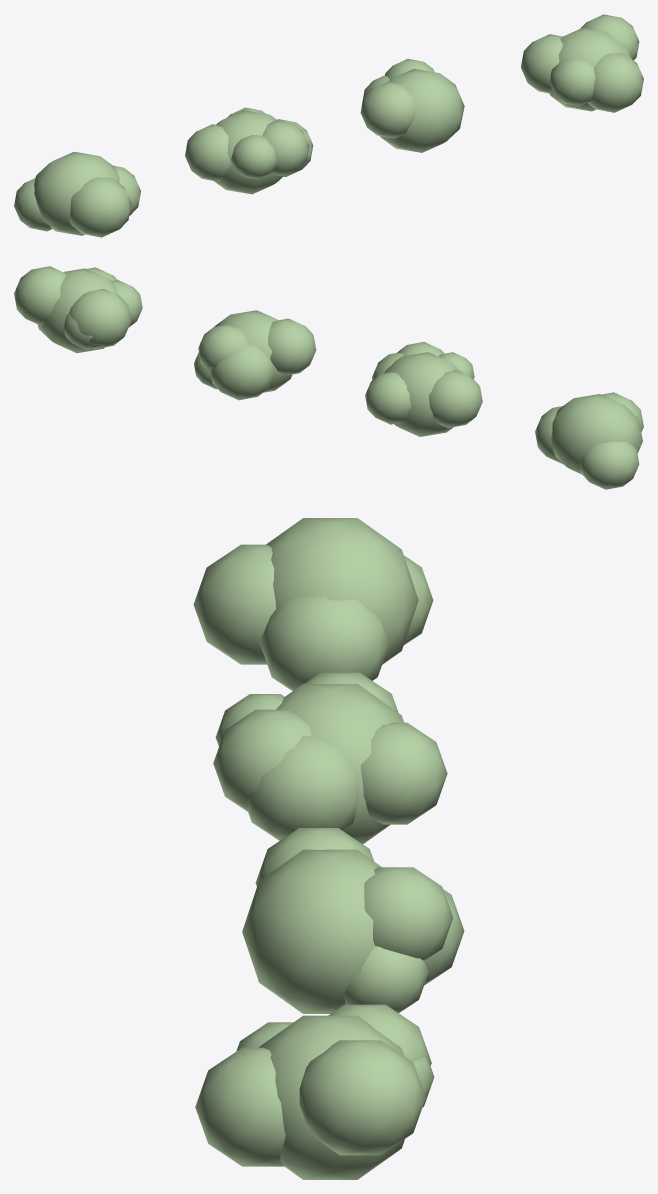
File: shrub_02.glb
3 renders of one model, top to bottom at view 1: azimuth 30°, elevation 25°; view 2: azimuth 150°, elevation 25°; view 3: azimuth 270°, elevation 25°, orthographic. The views are drawn at different scales.
Parts seen in each view (by area): view 1: shrub_02_d, shrub_02_a, shrub_02_b, shrub_02_c; view 2: shrub_02_b, shrub_02_d, shrub_02_c, shrub_02_a; view 3: shrub_02_d, shrub_02_c, shrub_02_a, shrub_02_b.
Part boxes in pixels (x1,y1,x2,y2): shrub_02_d: (521, 14, 643, 112); shrub_02_a: (14, 152, 140, 237); shrub_02_b: (185, 107, 313, 194); shrub_02_c: (360, 59, 464, 152); shrub_02_b: (365, 342, 482, 436); shrub_02_d: (14, 266, 142, 353); shrub_02_c: (194, 310, 316, 400); shrub_02_a: (535, 392, 643, 489); shrub_02_d: (195, 1004, 434, 1179); shrub_02_c: (242, 828, 464, 1013); shrub_02_a: (193, 518, 433, 691); shrub_02_b: (213, 672, 447, 843).
Size of the model in its own units: 7.21 by 0.8769 by 1.38.
